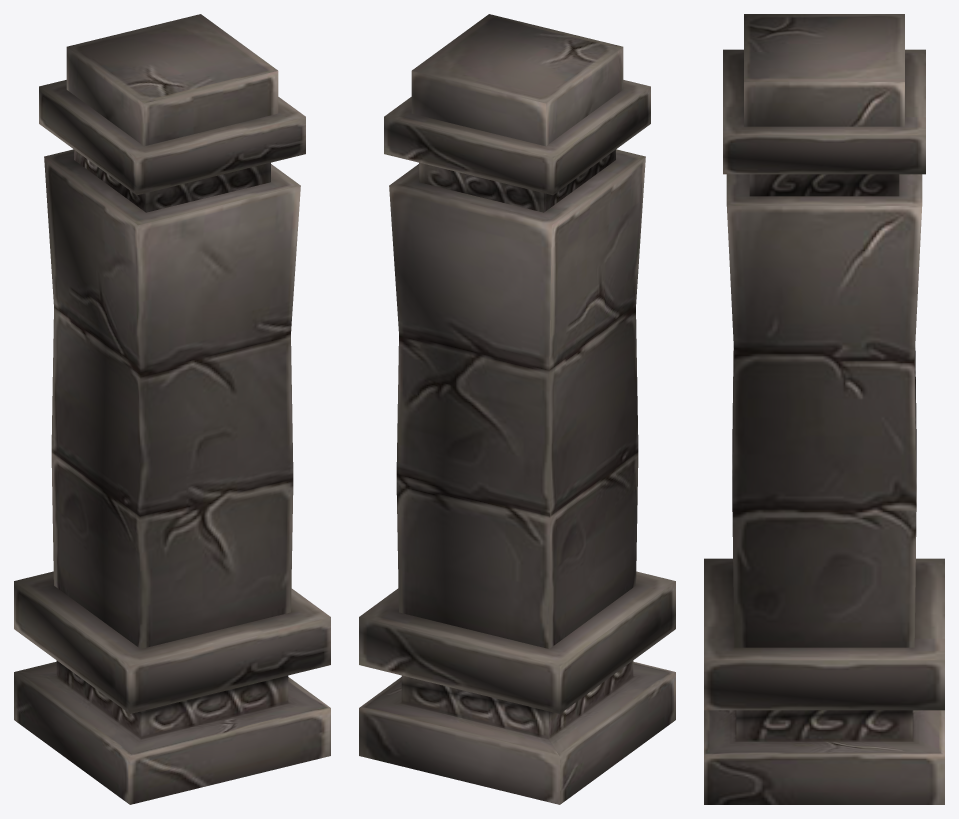
The model's file is pillar_b.glb.
The picture shows the model from 3 angles, left to right: view 1: azimuth 30°, elevation 25°; view 2: azimuth 150°, elevation 25°; view 3: azimuth 270°, elevation 25°; orthographic projection. The views are drawn at different scales.
Visible parts, largest first — view 1: untitled.001; view 2: untitled.001; view 3: untitled.001.
Boxes of the visible parts, x1=… form: untitled.001: x1=14, y1=14, x2=330, y2=804; untitled.001: x1=359, y1=14, x2=675, y2=804; untitled.001: x1=704, y1=14, x2=944, y2=804.
Bounding box in the file's own units: 0.6938 × 2.24 × 0.6938.
1 material, 1 textured.
